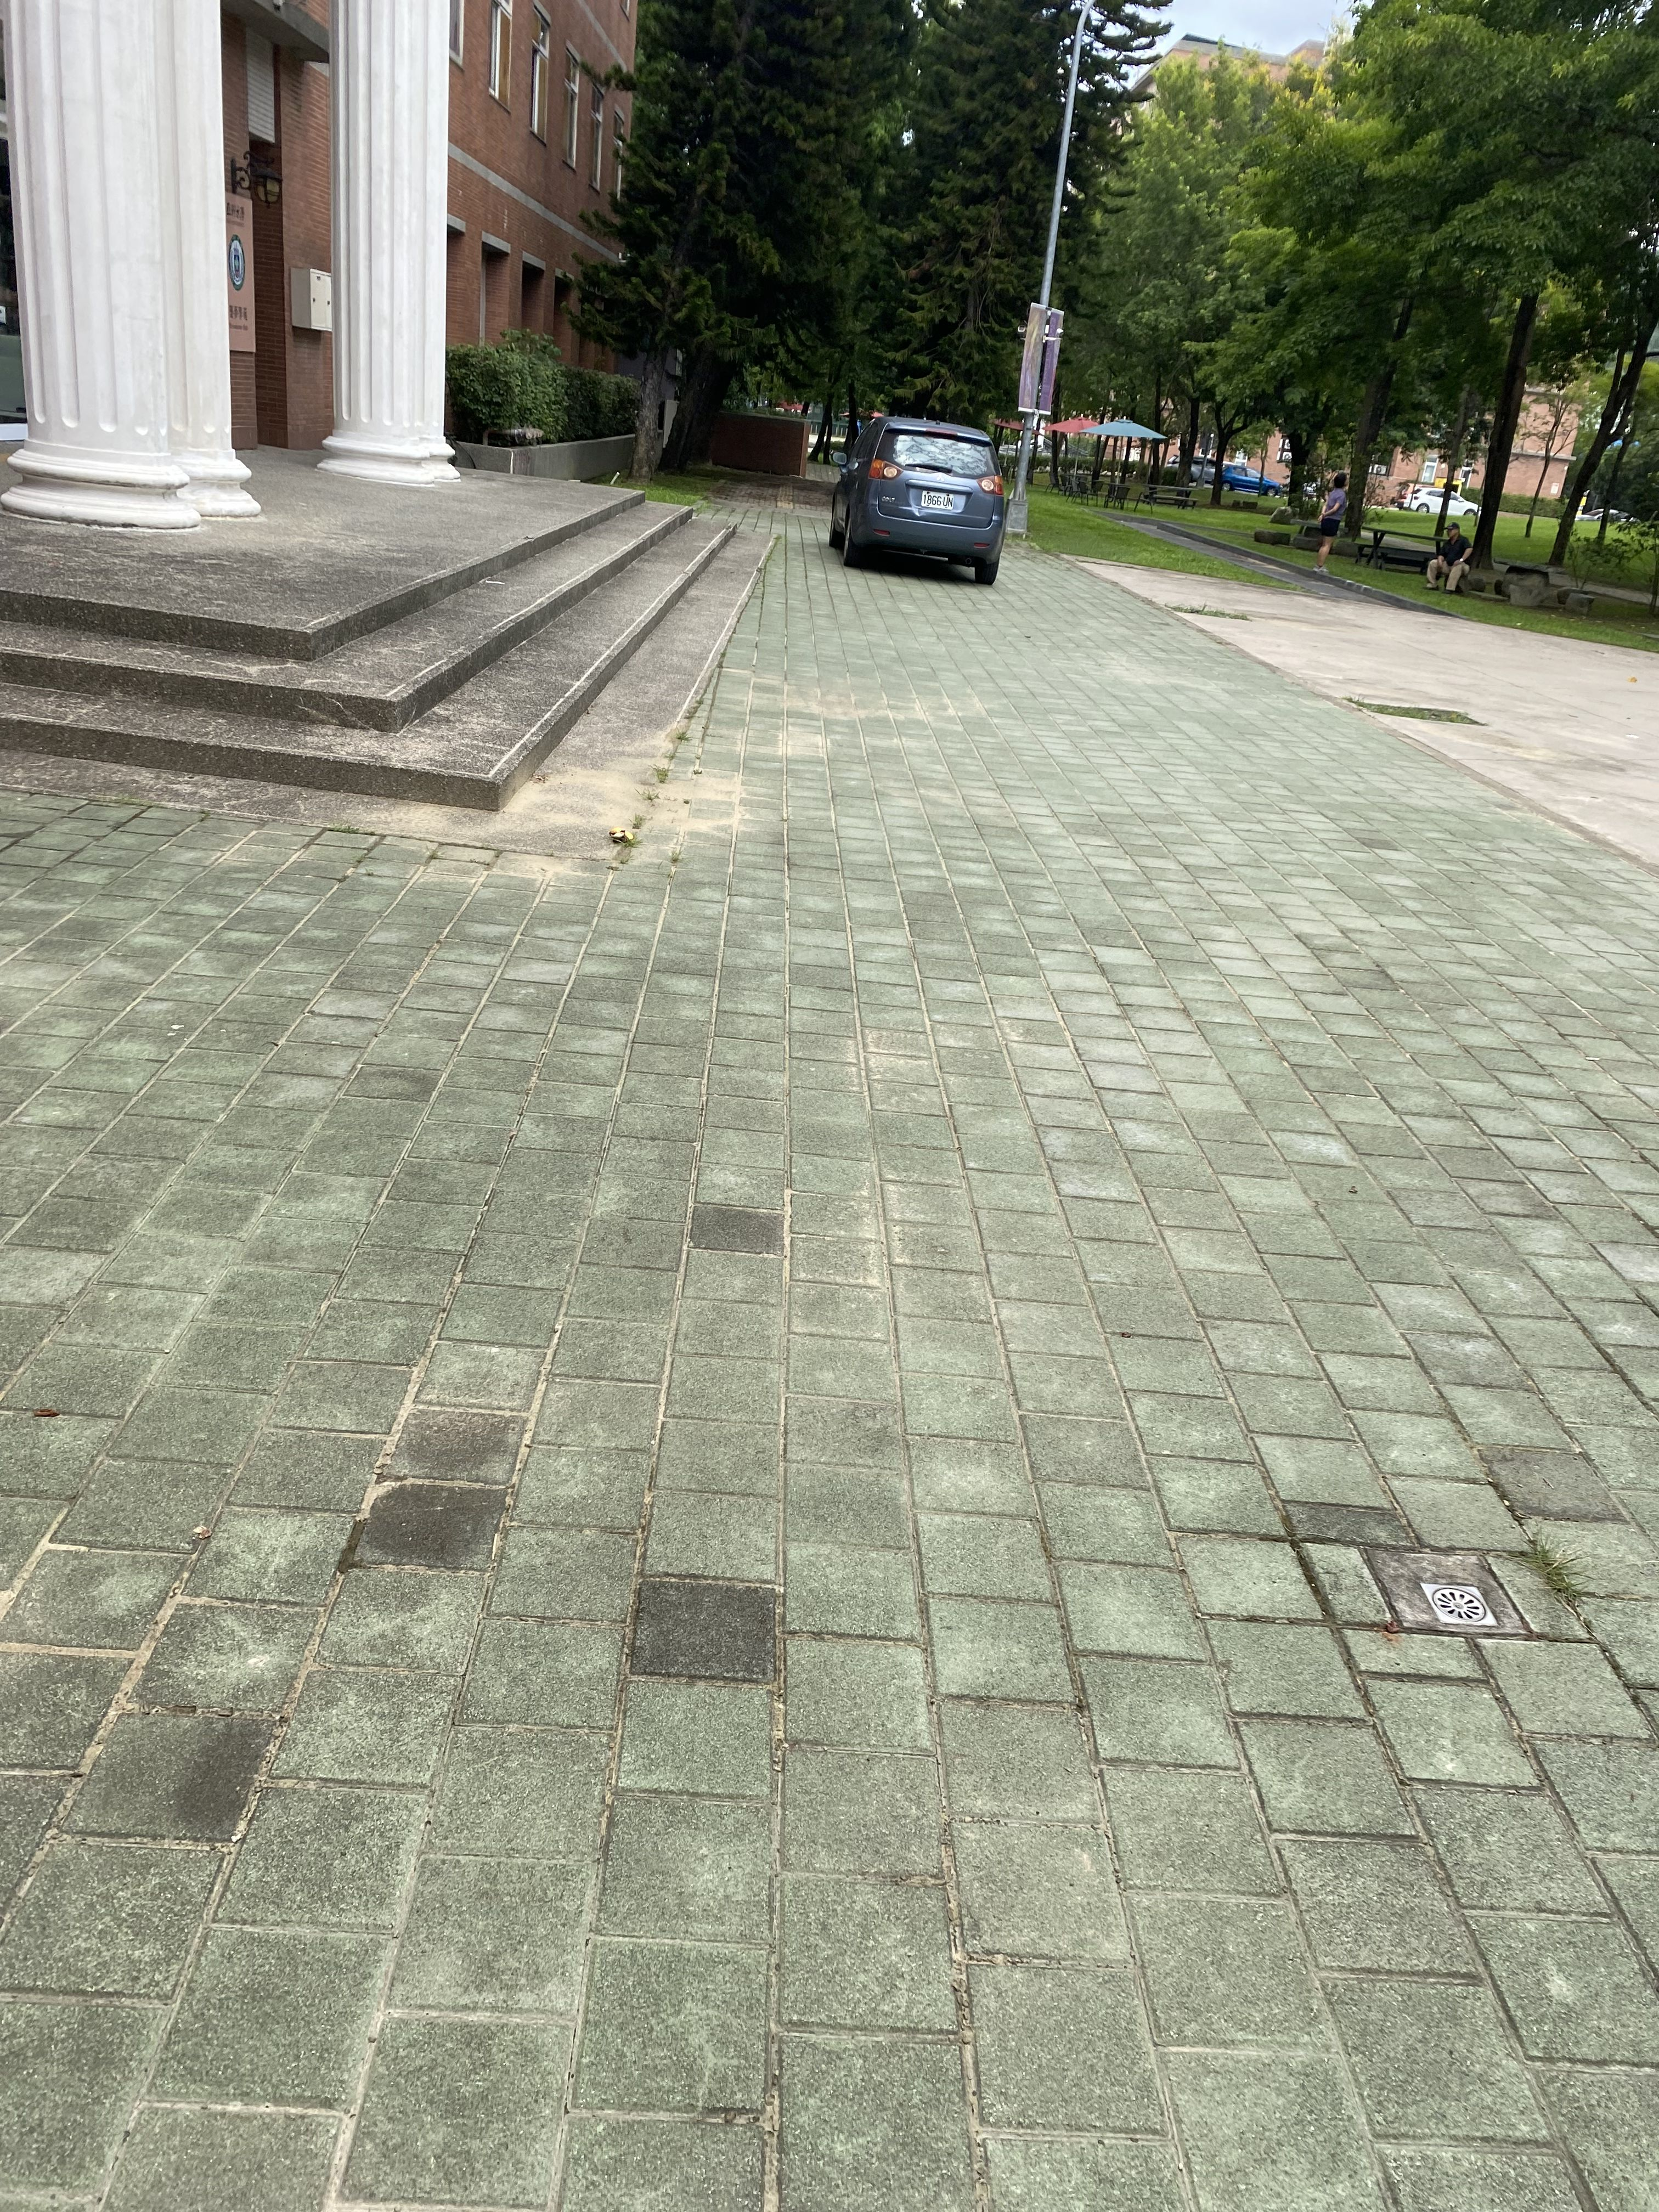sidewalk: (7, 435, 1659, 2200)
